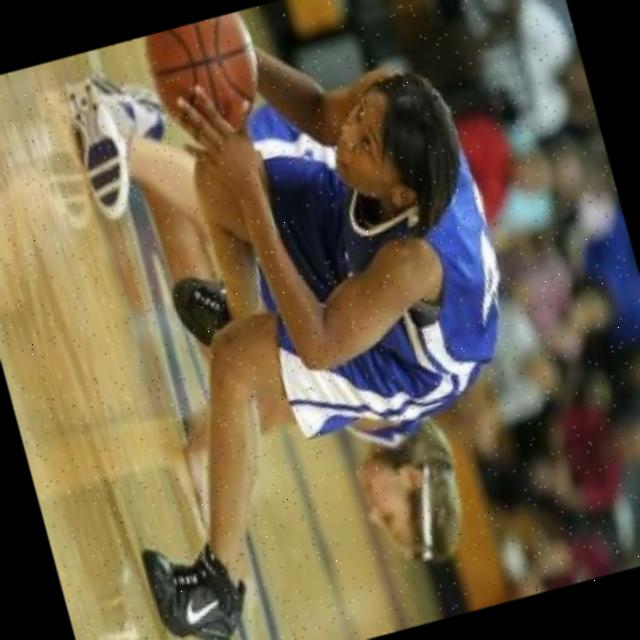ball: (138, 9, 274, 150)
